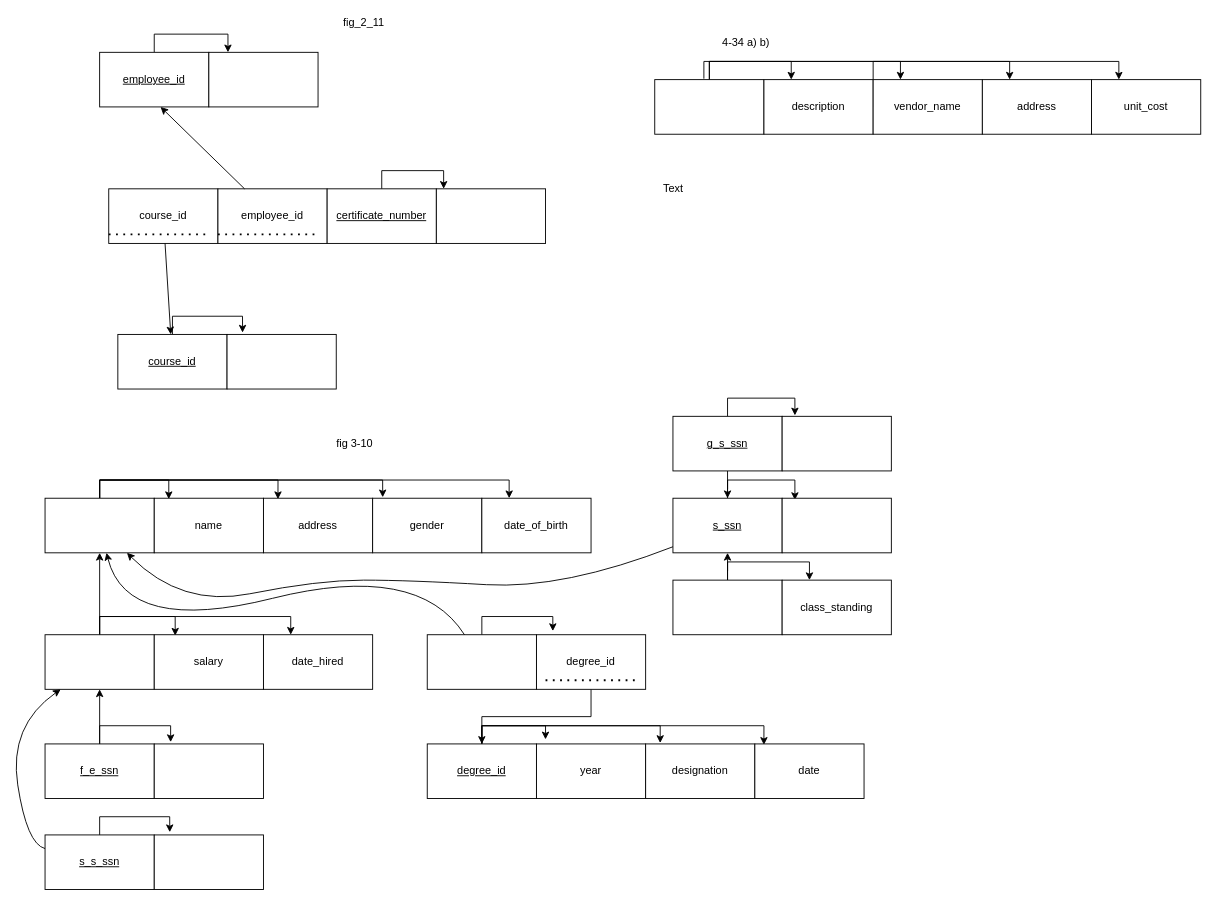
Some shapes in this 1217 by 905 pixel diagram are drawn without their labels. The centre of each missing label's shape, as x and y in pixels:
"a_ssn" goes at (x=481, y=661).
"course_title" goes at (x=281, y=361).
"date_completed" goes at (x=490, y=215).
"e_ssn" goes at (x=99, y=661).
"employee_name" goes at (x=263, y=79).
"major_dept" goes at (x=836, y=525).
"part_no" goes at (x=709, y=106).
"position" goes at (x=208, y=862).
"rank" goes at (x=208, y=771).
"ssn" goes at (x=99, y=525).
"test_score" goes at (x=836, y=443).
"u_s_ssn" goes at (x=727, y=607).
